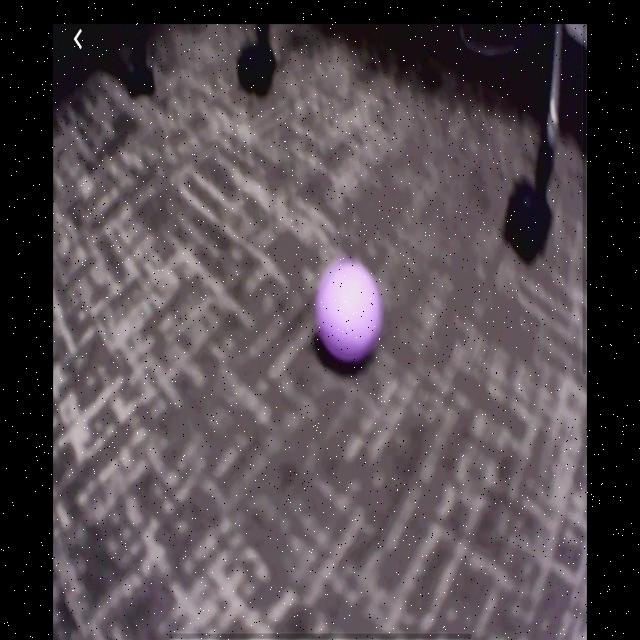ball: (316, 263, 384, 361)
